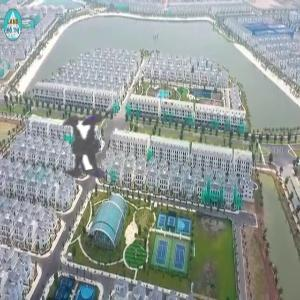drone: (3, 69, 168, 234)
